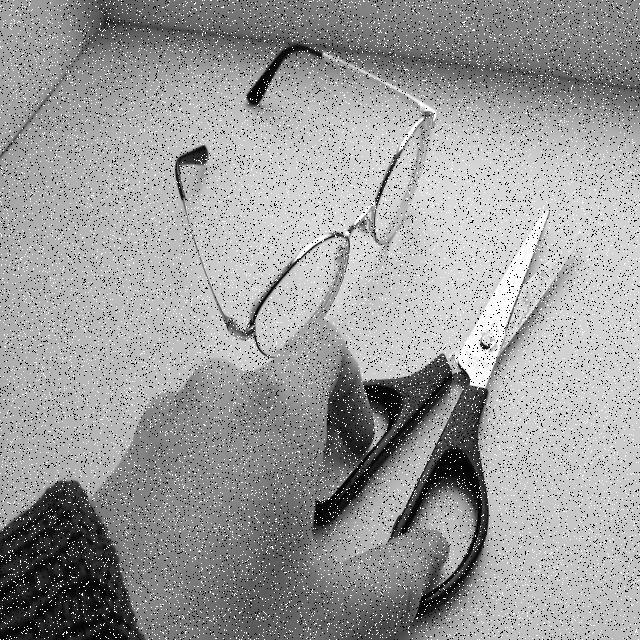scissors: (235, 160, 602, 635)
